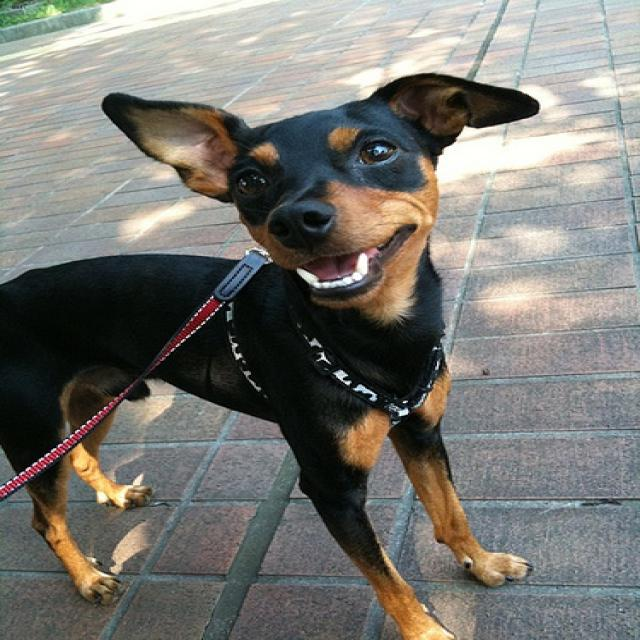dog-miniature_pinscher: (2, 69, 548, 637)
